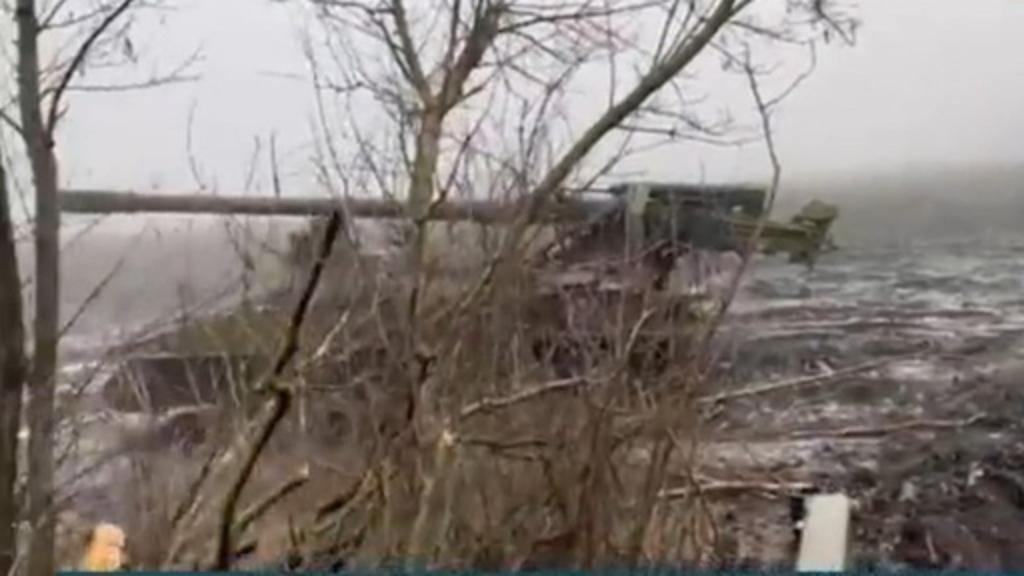ART: (44, 166, 838, 440)
